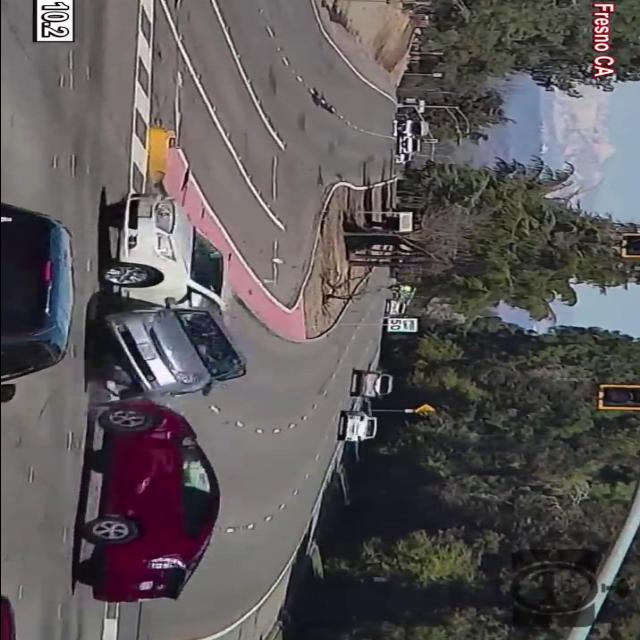accident: (60, 191, 288, 612)
